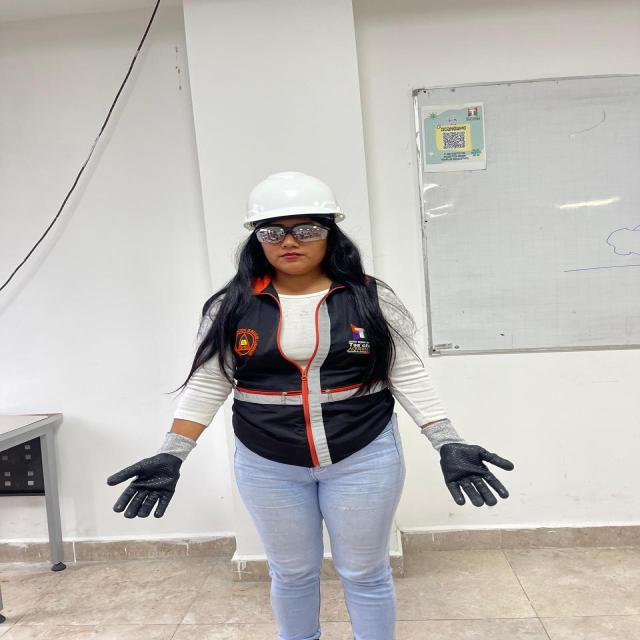gloves: (421, 420, 513, 506), (107, 432, 197, 518)
helmet: (244, 171, 345, 229)
protective_glasses: (254, 223, 329, 244)
